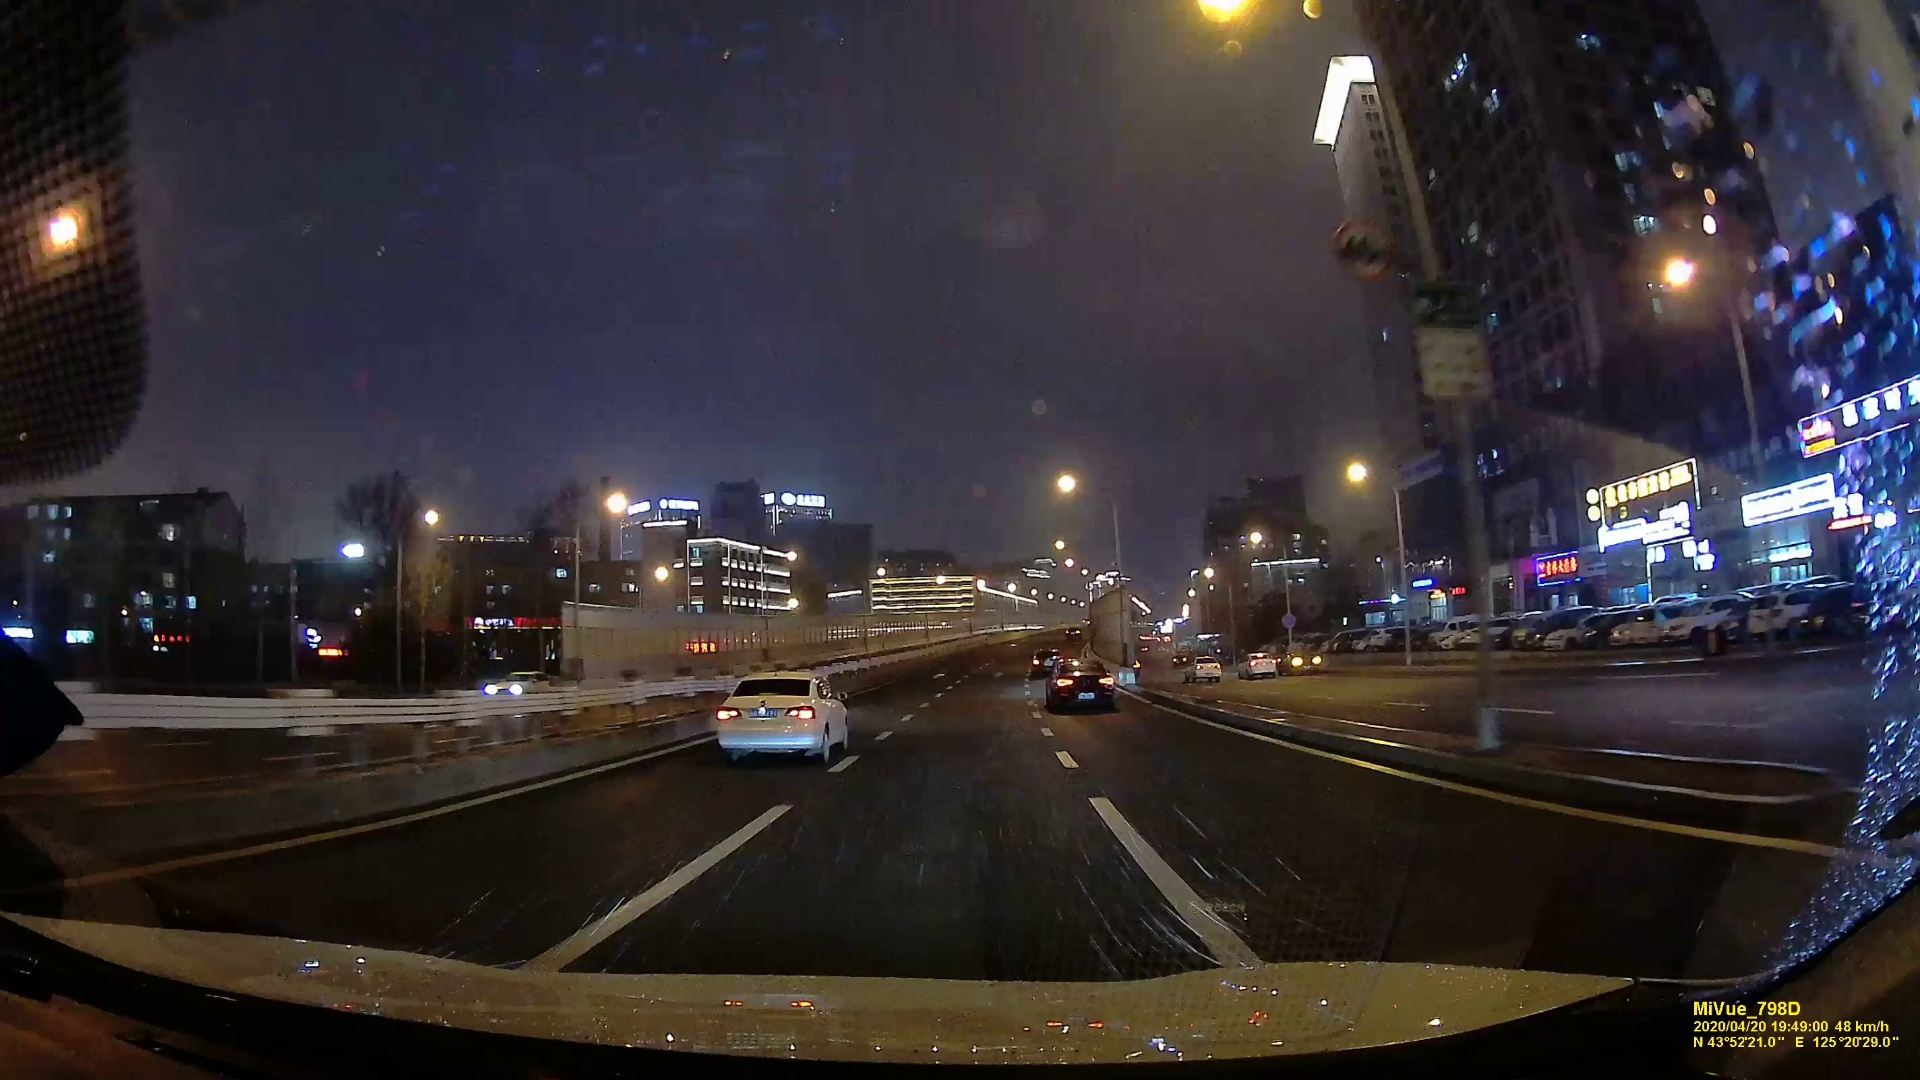vehicle: (713, 671, 851, 767), (1046, 659, 1117, 713), (484, 673, 554, 695), (1280, 650, 1323, 674), (1185, 655, 1222, 682), (1240, 651, 1276, 678), (1031, 647, 1055, 673)
